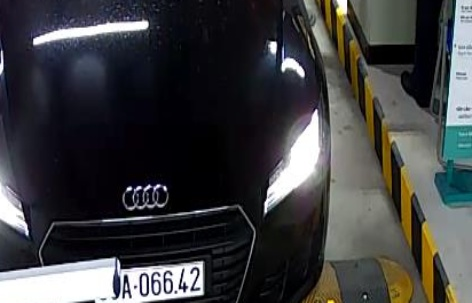plate: (118, 265, 210, 298)
